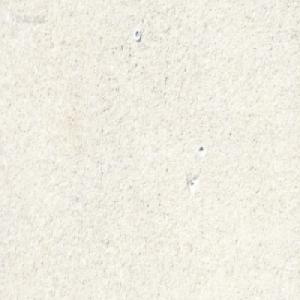Washer: (133, 28, 141, 41)
